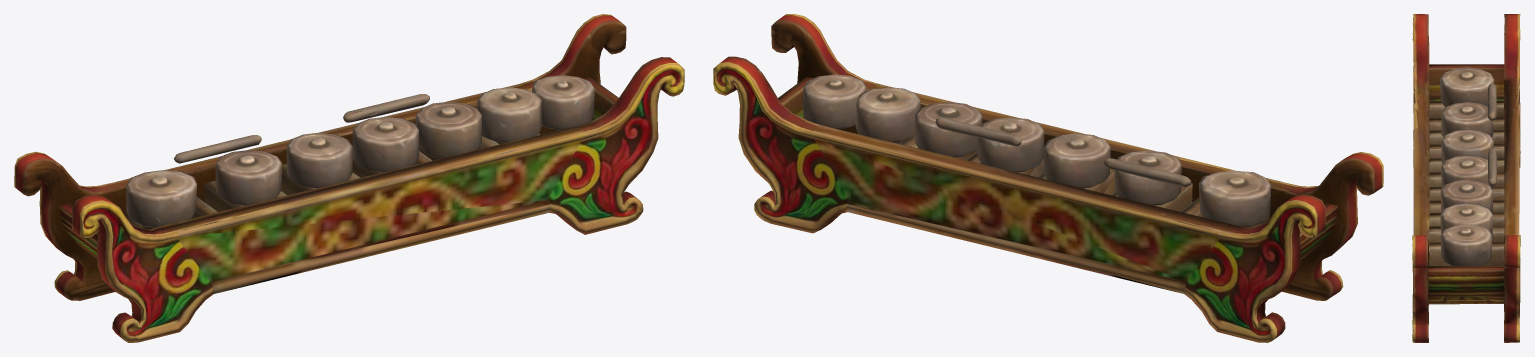
File: kulintang.glb
The picture shows the model from 3 angles, left to right: view 1: azimuth 30°, elevation 25°; view 2: azimuth 150°, elevation 25°; view 3: azimuth 270°, elevation 25°; orthographic projection. The views are drawn at different scales.
Parts seen in each view (by area): view 1: geometry_0; view 2: geometry_0; view 3: geometry_0.
Part boxes in pixels (<box>): geometry_0: <box>14,14,684,342</box>; geometry_0: <box>713,14,1383,342</box>; geometry_0: <box>1412,14,1520,342</box>.
Bounding box in the file's own units: 1 × 0.24 × 0.1968.
Materials: 1 (1 with a texture image).
